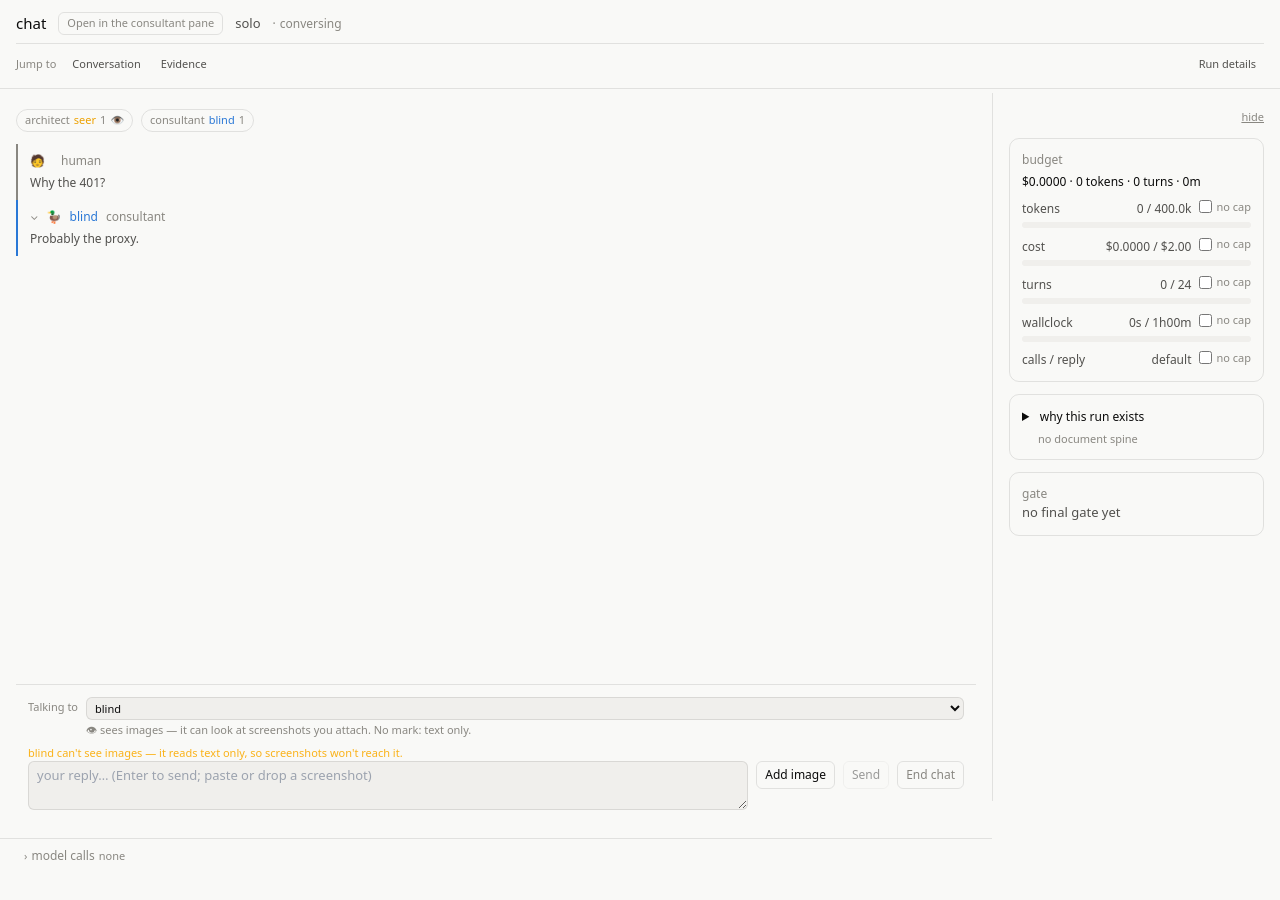
Test: the live chat composer › switches from the picker, and shows the engine's refusal
expect the text with test id "chat-vision-note" is shown: met, box x1=28 y1=745 x2=403 y2=760
Select "claimed · 👁" in the dropdown with test id "chat-consultant" at (525, 708), box x1=86 y1=696 x2=964 y2=720
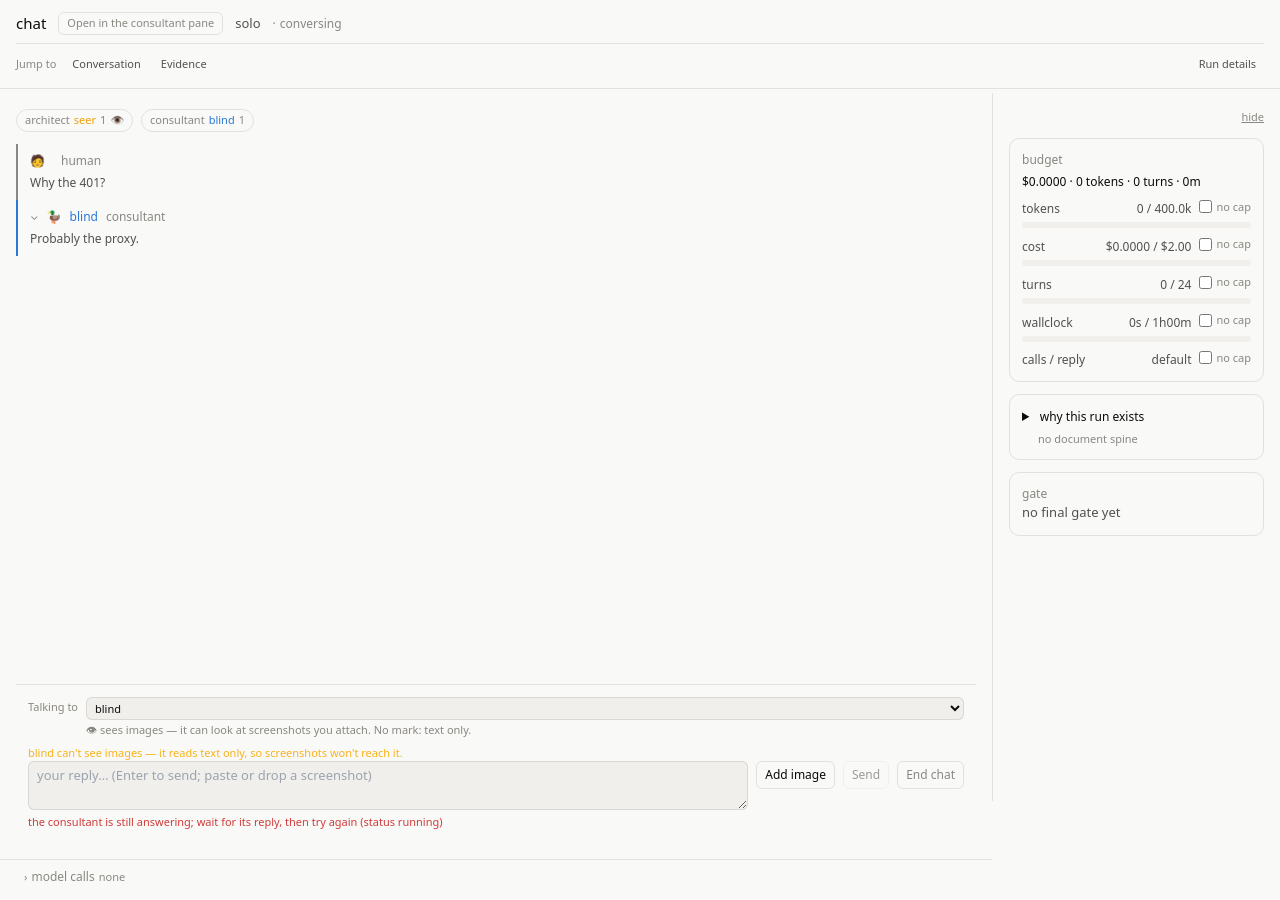
expect the text with test id "chat-error" shows "still answering": met, box x1=28 y1=814 x2=442 y2=829
